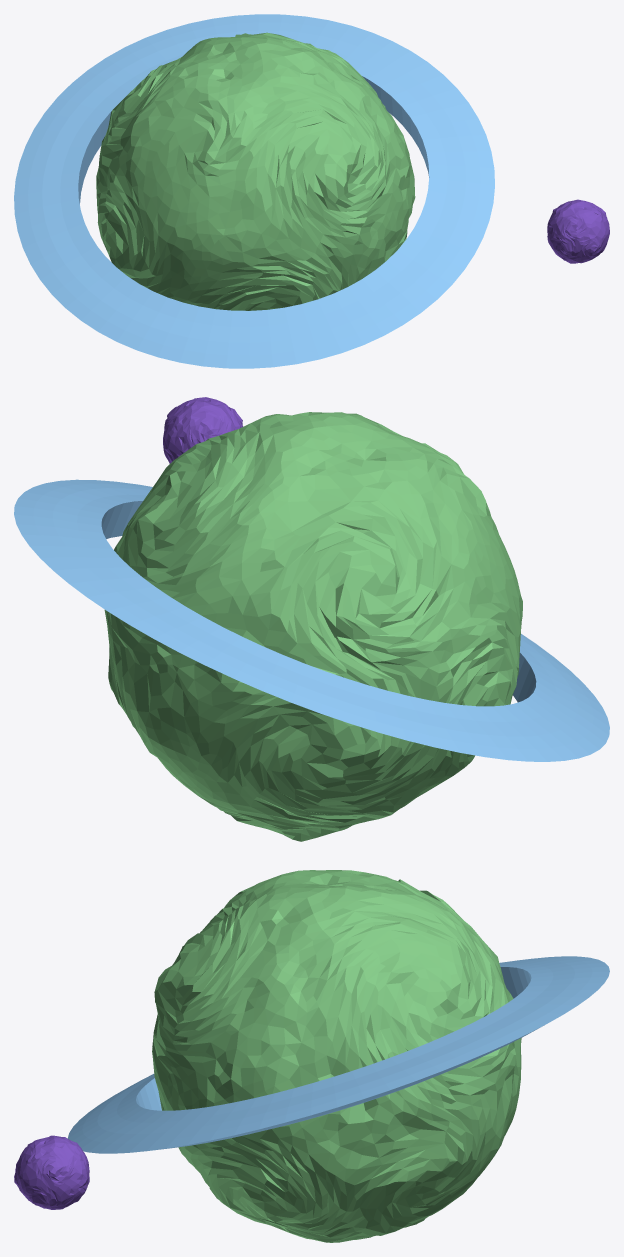
The model's file is Planet_26.glb.
3 renders of one model, top to bottom at view 1: azimuth 30°, elevation 25°; view 2: azimuth 150°, elevation 25°; view 3: azimuth 270°, elevation 25°, orthographic. The views are drawn at different scales.
Parts seen in each view (by area): view 1: Planet_26; view 2: Planet_26; view 3: Planet_26.
Part boxes in pixels (bbox=[...]): Planet_26: bbox=[14, 14, 609, 368]; Planet_26: bbox=[14, 397, 609, 841]; Planet_26: bbox=[14, 870, 609, 1242].
Bounding box in the file's own units: 31.62 × 20.14 × 31.96.
1 material, 1 textured.
